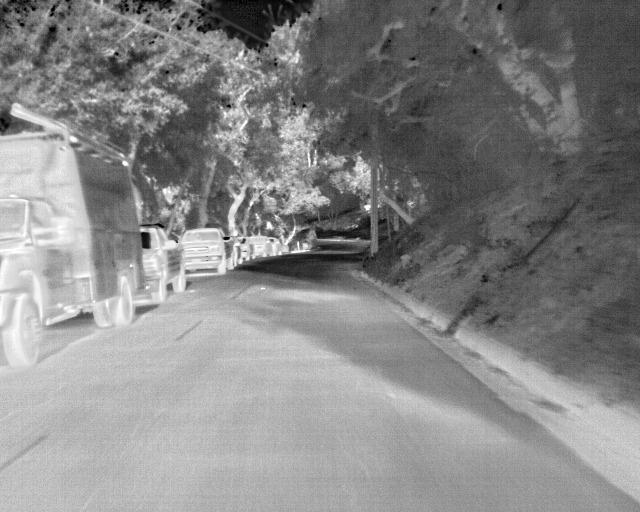car: (141, 222, 185, 304), (182, 227, 239, 274), (252, 235, 272, 258), (236, 236, 253, 263), (273, 236, 288, 256)
